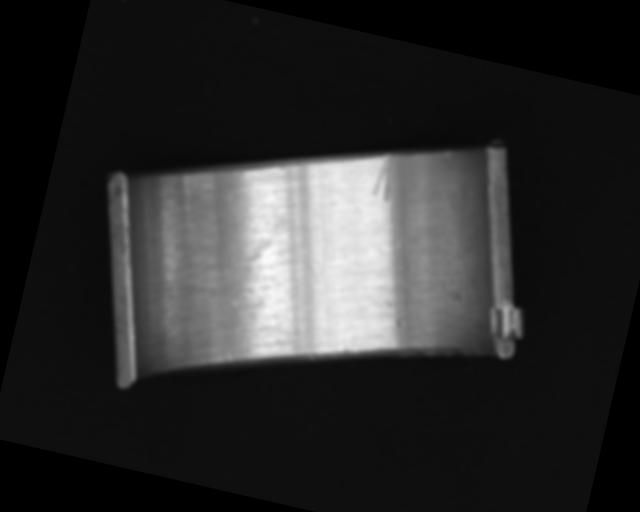bruise: (393, 316, 407, 330)
nick: (368, 151, 400, 203), (443, 148, 455, 164)
